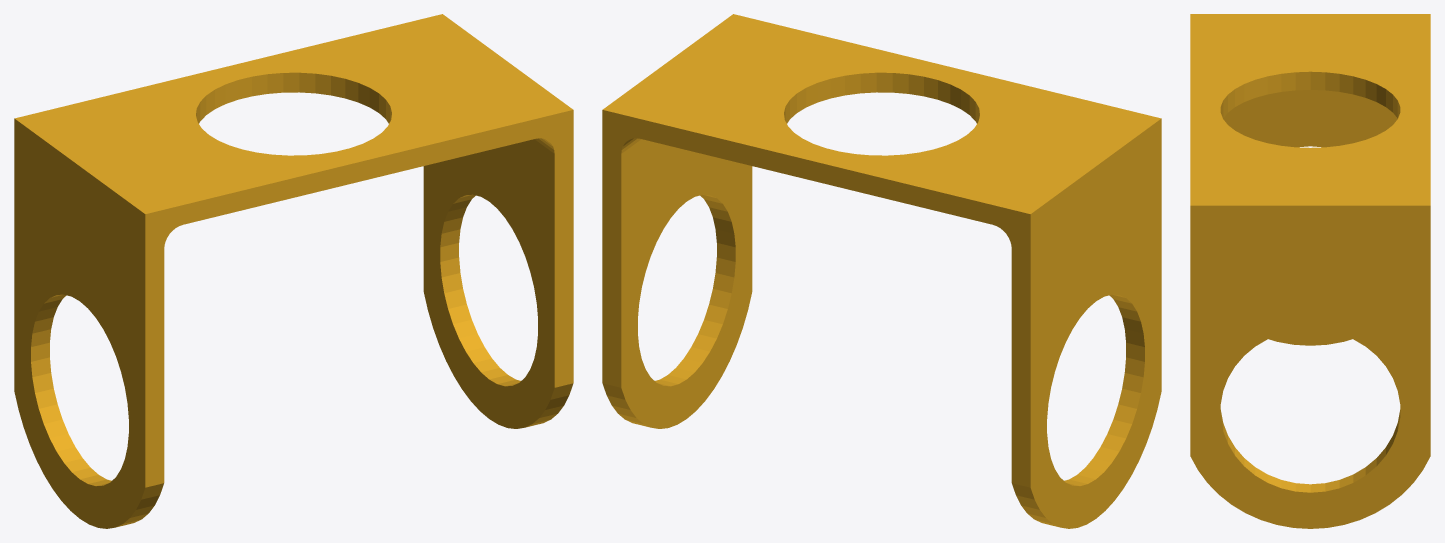
Rendered from TDJ-25-P-40008-BEVEL-GEAR-PLATE.glb.
3 renders of one model, left to right at view 1: azimuth 30°, elevation 25°; view 2: azimuth 150°, elevation 25°; view 3: azimuth 270°, elevation 25°, orthographic. The views are drawn at different scales.
Bounding box in the file's own units: 71.96 × 56.62 × 38.1.
